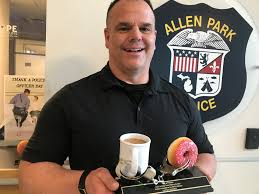Donut: (167, 133, 199, 173)
